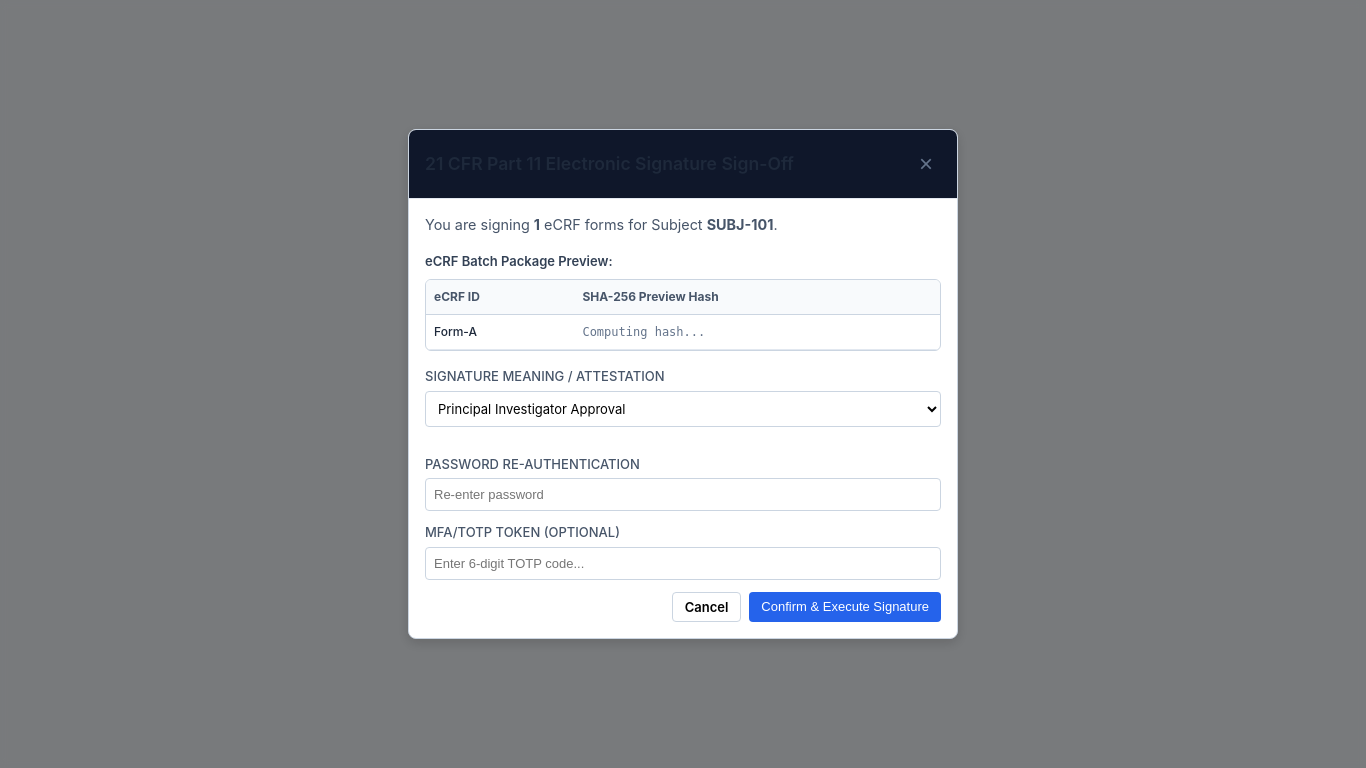
it: BatchSignatureModal.vue › automatically clears password field and displays error message on 401 re-authentication failure
Type "wrong_password" into the password field labelled "Password Re-Authentication" at x=683, y=495, box [425, 478, 941, 511]
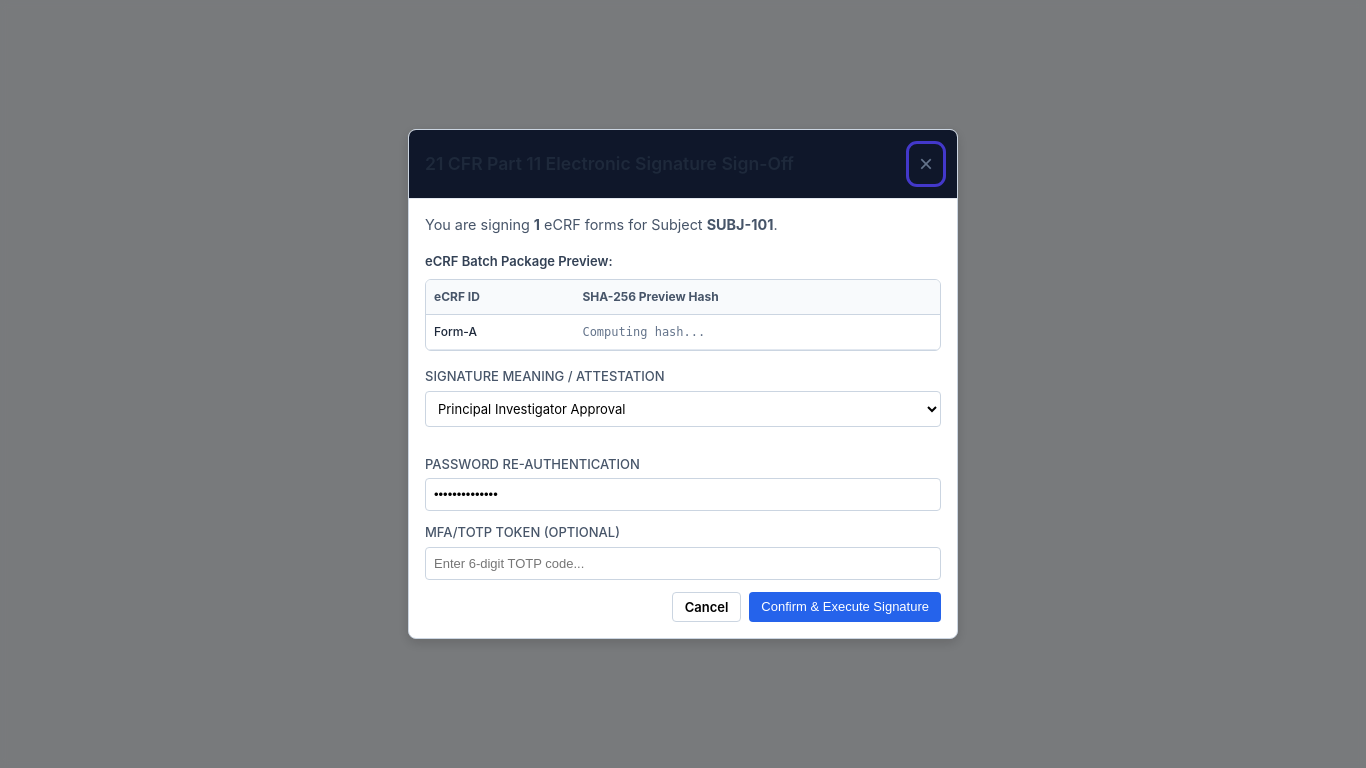
Select "Principal Investigator Approval" in the dropdown with class "signature-meaning-picker" at x=683, y=409, box [425, 391, 941, 427]
# Submit form
Submit the form, box [425, 367, 941, 622]
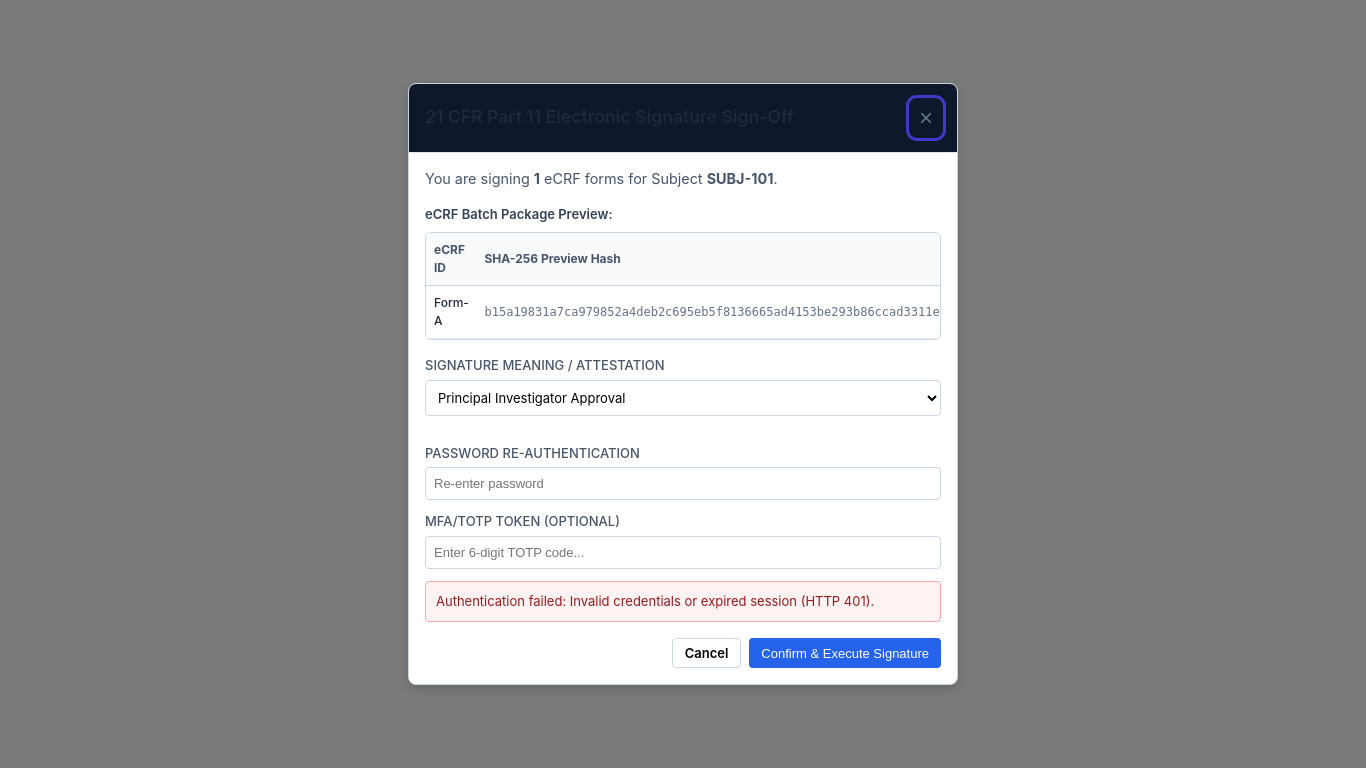
Result: the text with class "error-banner" is shown at [425, 581, 941, 622]
Result: the text with class "error-banner" shows "Authentication failed" at [436, 593, 874, 609]
Result: the password field labelled "Password Re-Authentication" is empty at [425, 467, 941, 500]
